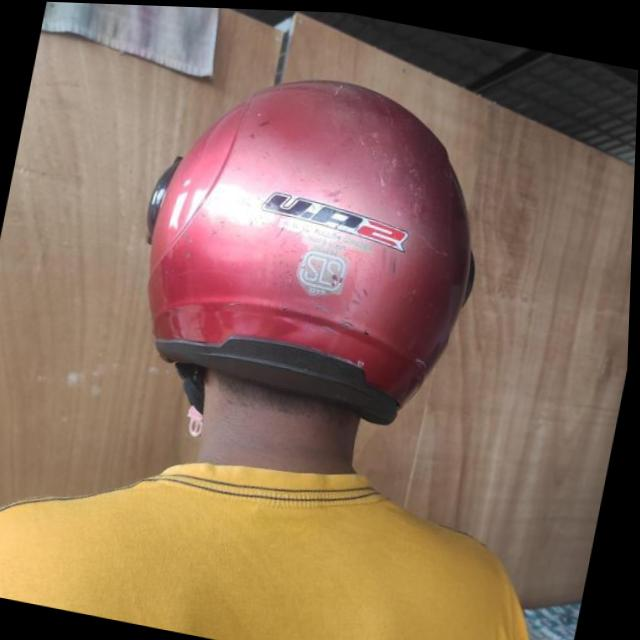helmet: (107, 45, 508, 484)
